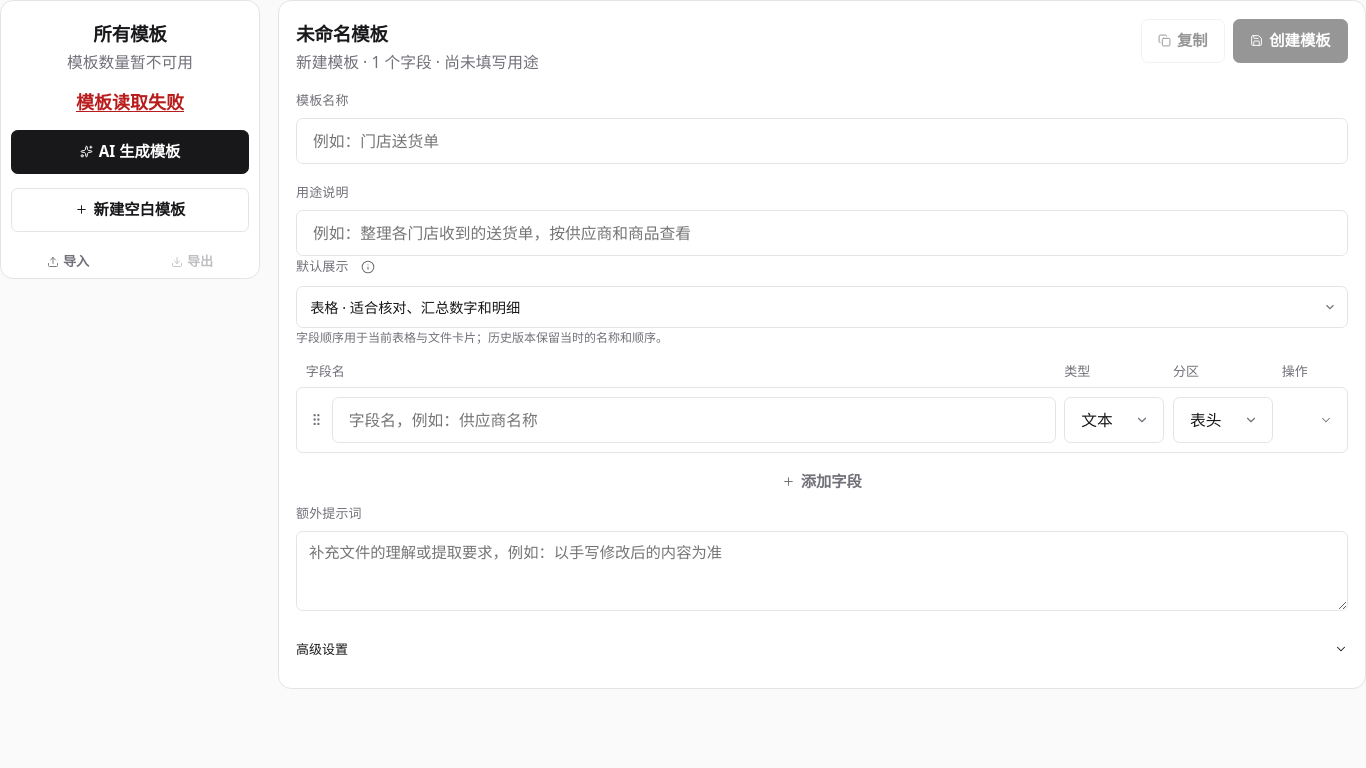
Test case: template catalog read boundaries › distinguishes loading and failure from an empty catalog and retries in place
Click the button "模板读取失败".
click(130, 101)  # box [76,88,184,114]
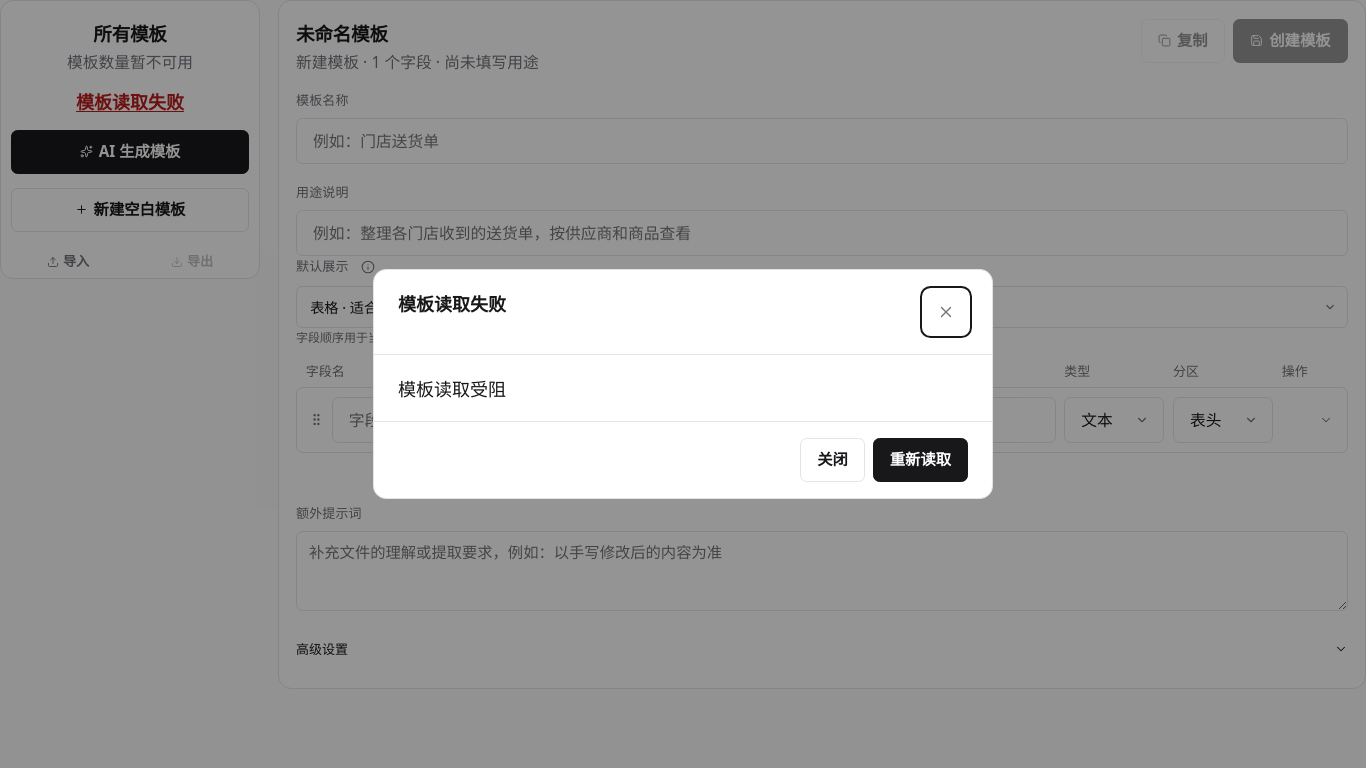
expect the dialog "模板读取失败" shows "模板读取受阻": met, box [398,377,506,401]
Click the button "重新读取".
click(920, 460)  # box [873,438,968,482]
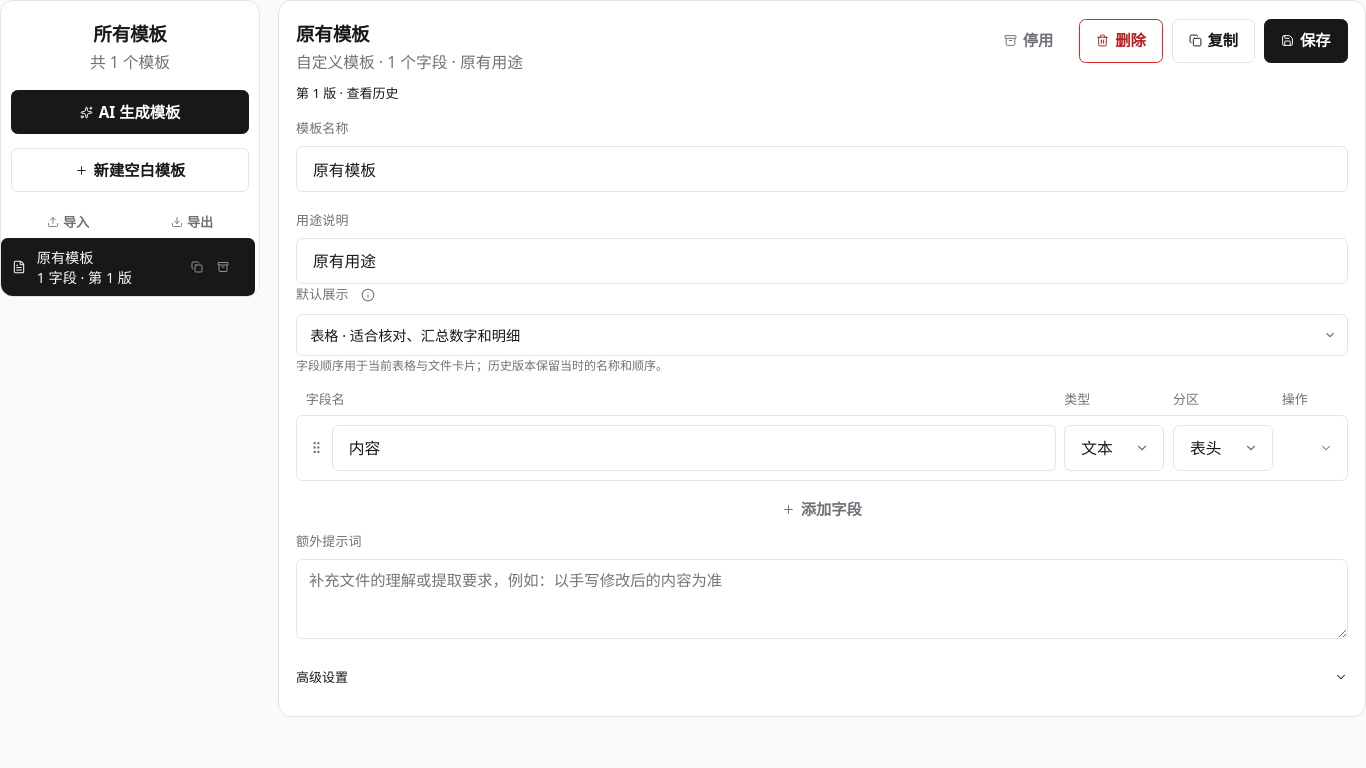
expect the heading "原有模板" is shown: met, box [296,20,369,46]
expect the text "共 1 个模板" is shown: met, box [90,50,170,75]
